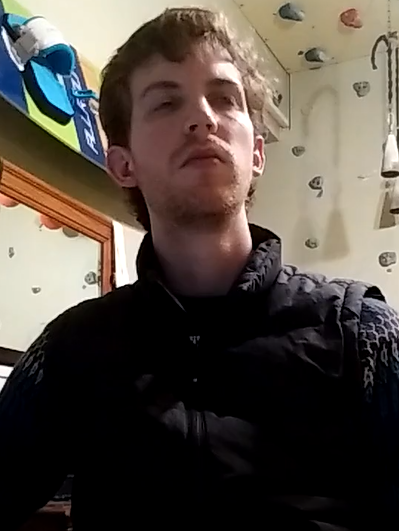Half Asleep: (140, 78, 244, 124)
